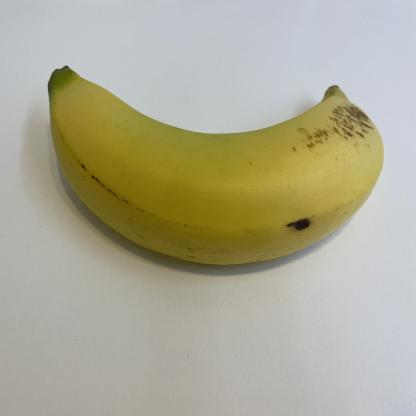banana: (44, 58, 383, 270)
